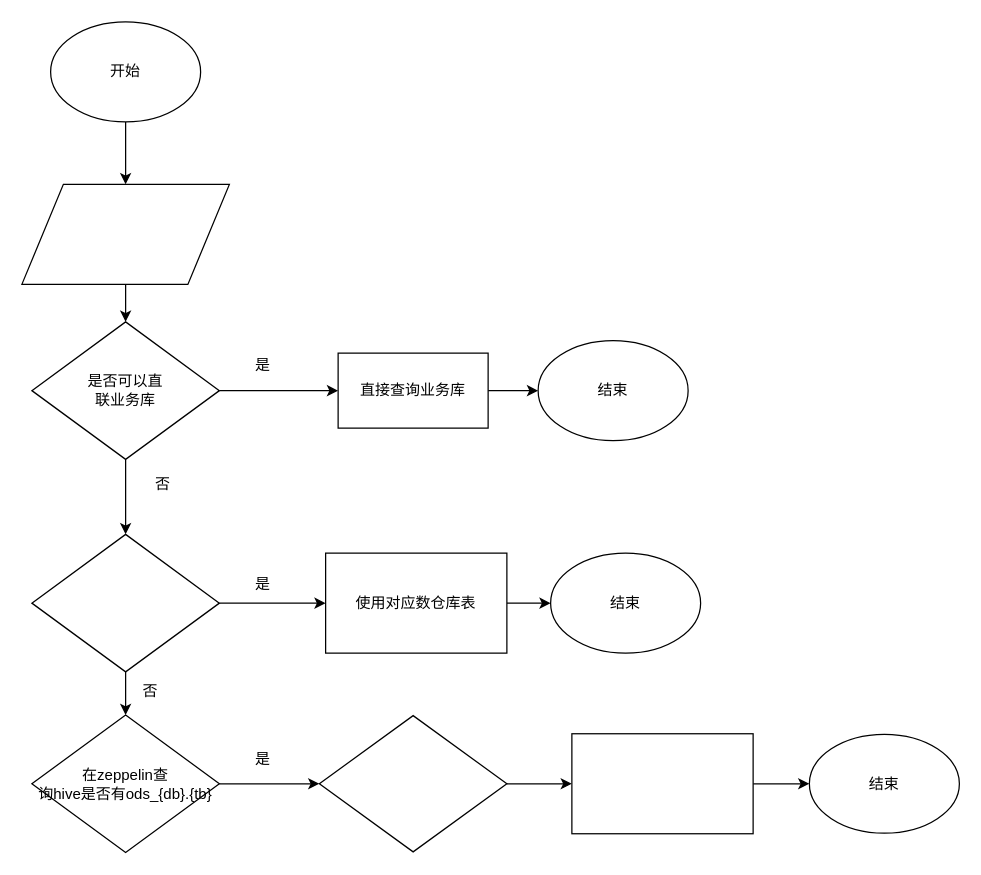
The diagram is 981 pixels wide and 875 high, and some of its shapes have lost their labels. The shapes that lost their labels are listed below. From the top down, each one's centre as x and y in pixels, then its label:
At point (125, 233): "咨询技术学长获 取所需数据库名 (db)表名(tb)".
At point (125, 602): "咨询数仓学长 数仓是否有对 应库表".
At point (412, 783): "hive表是否采集 自对应业务表,是否有最新数据".
At point (662, 783): "使用对应hive库表".
